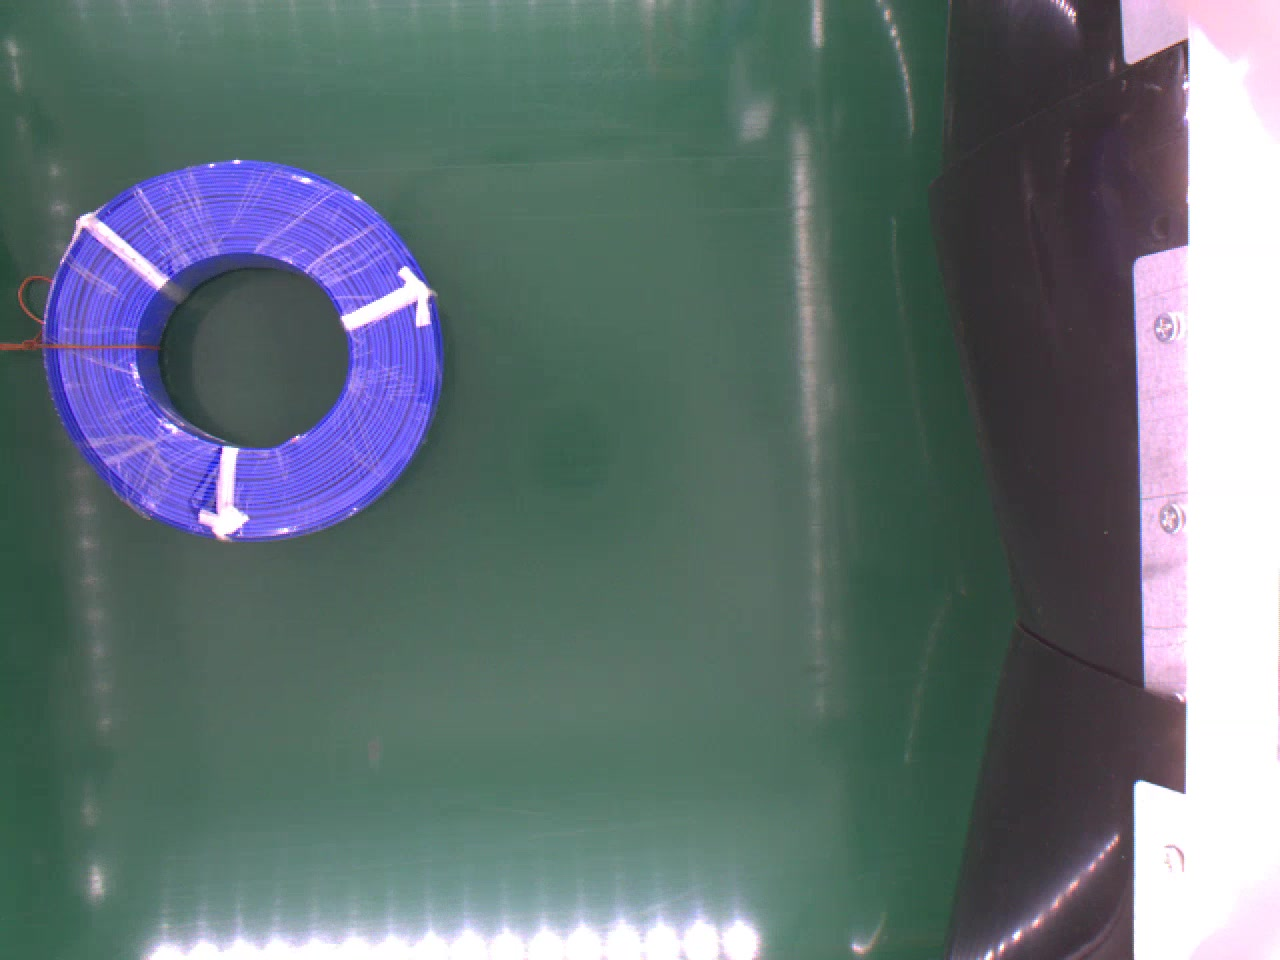blue: (50, 157, 446, 538)
